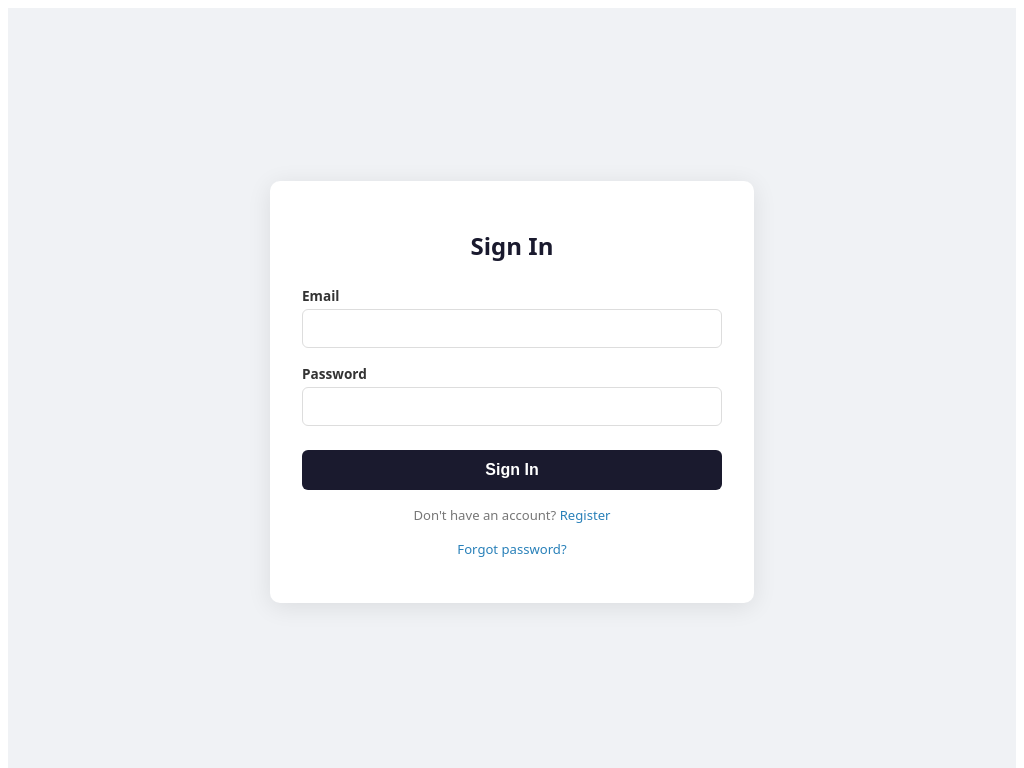
Test case: Login — security behaviours › shows rate limit message on 429
Type "user@example.com" into the field labelled "Email" at (512,328), box [302,309,722,348]
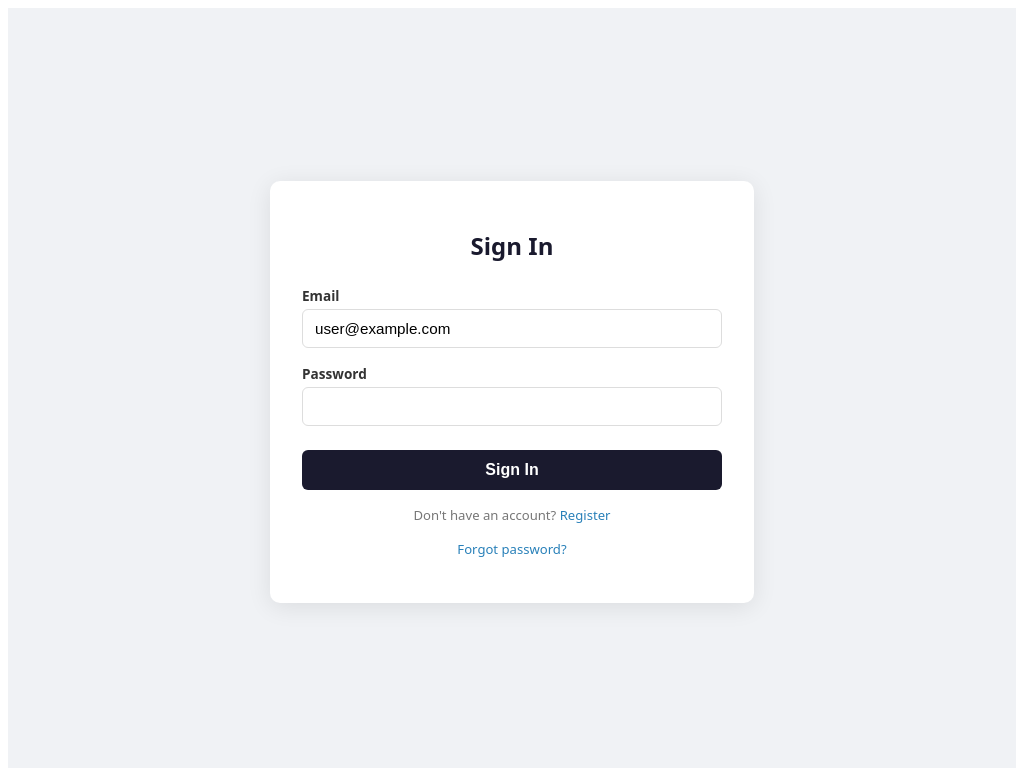
Type "password123" into the password field labelled "Password" at (512,406), box [302,387,722,426]
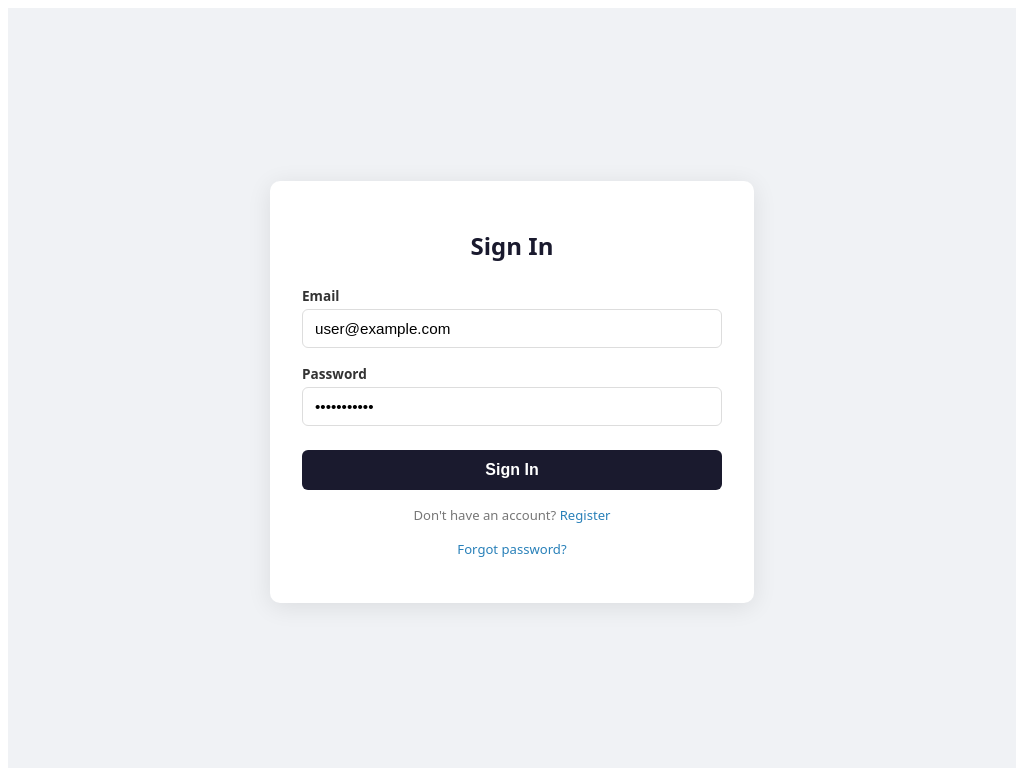
Click the button "Sign In" at (512,470), box [302,450,722,490]
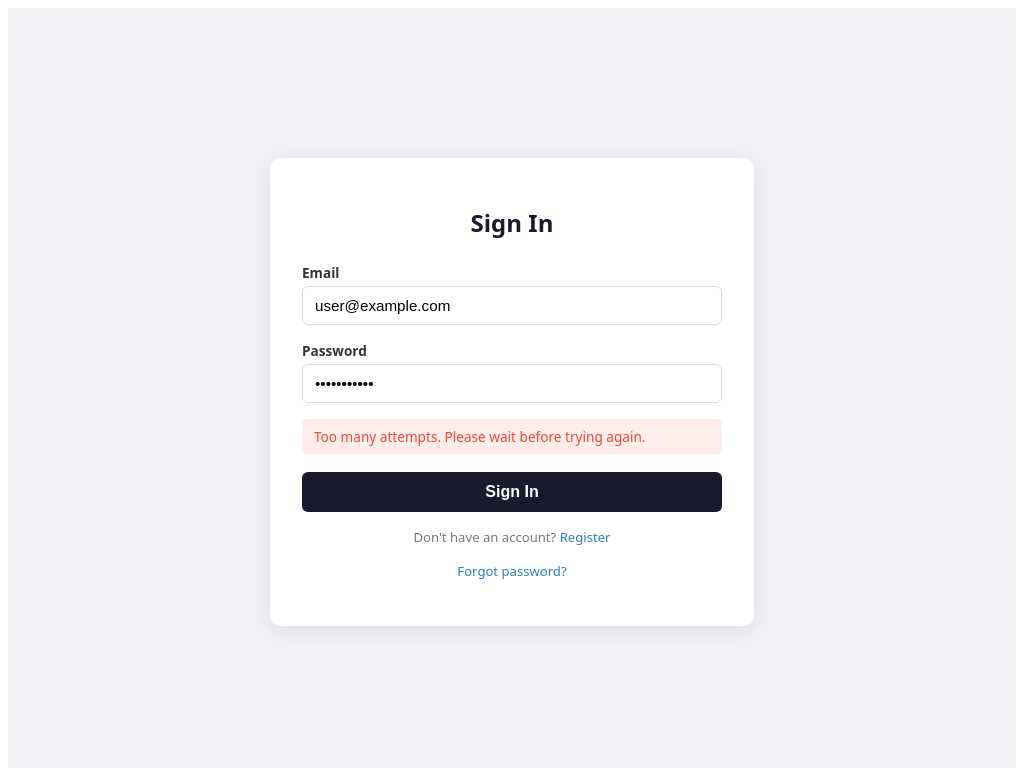
Check: the message shows "Too many attempts", box [314,428,646,446]
